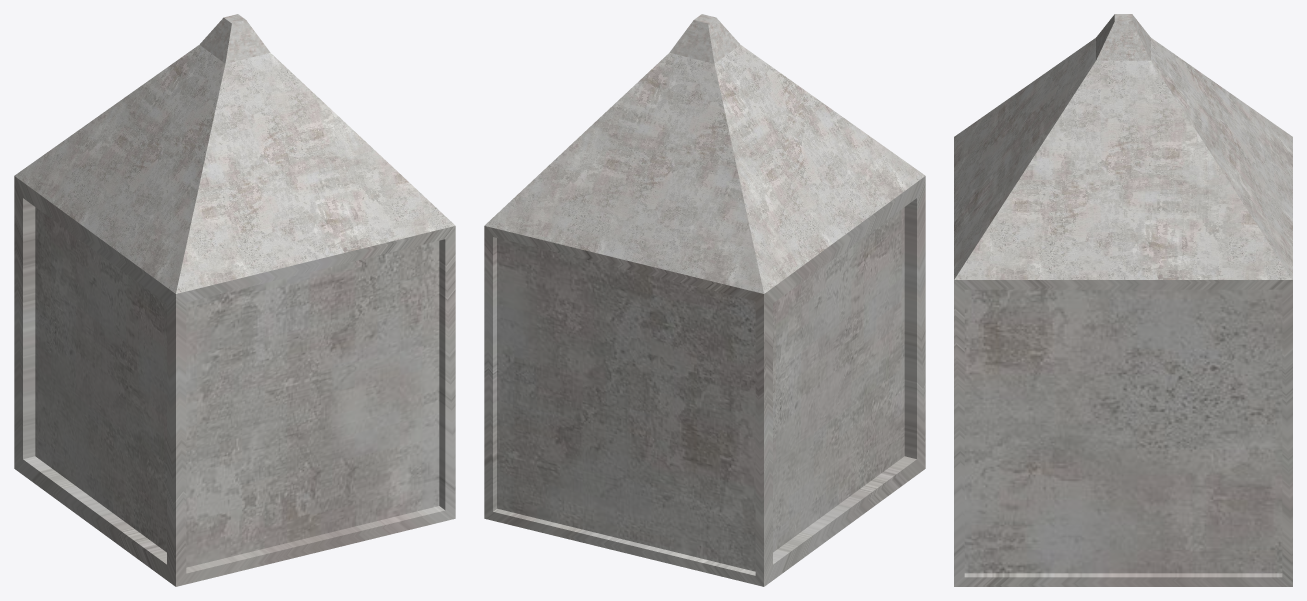
File: Block.fbx
3 views of the same model, side by side, from view 1: azimuth 30°, elevation 25°; view 2: azimuth 150°, elevation 25°; view 3: azimuth 270°, elevation 25° (orthographic). The views are drawn at different scales.
Visible parts, largest first — view 1: pCube1; view 2: pCube1; view 3: pCube1.
Part boxes in pixels (x1=…): pCube1: x1=14, y1=14, x2=455, y2=586; pCube1: x1=484, y1=14, x2=925, y2=586; pCube1: x1=954, y1=14, x2=1292, y2=586.
Size of the model in its own units: 3.25 by 5.27 by 3.25.
1 material, 1 textured.
